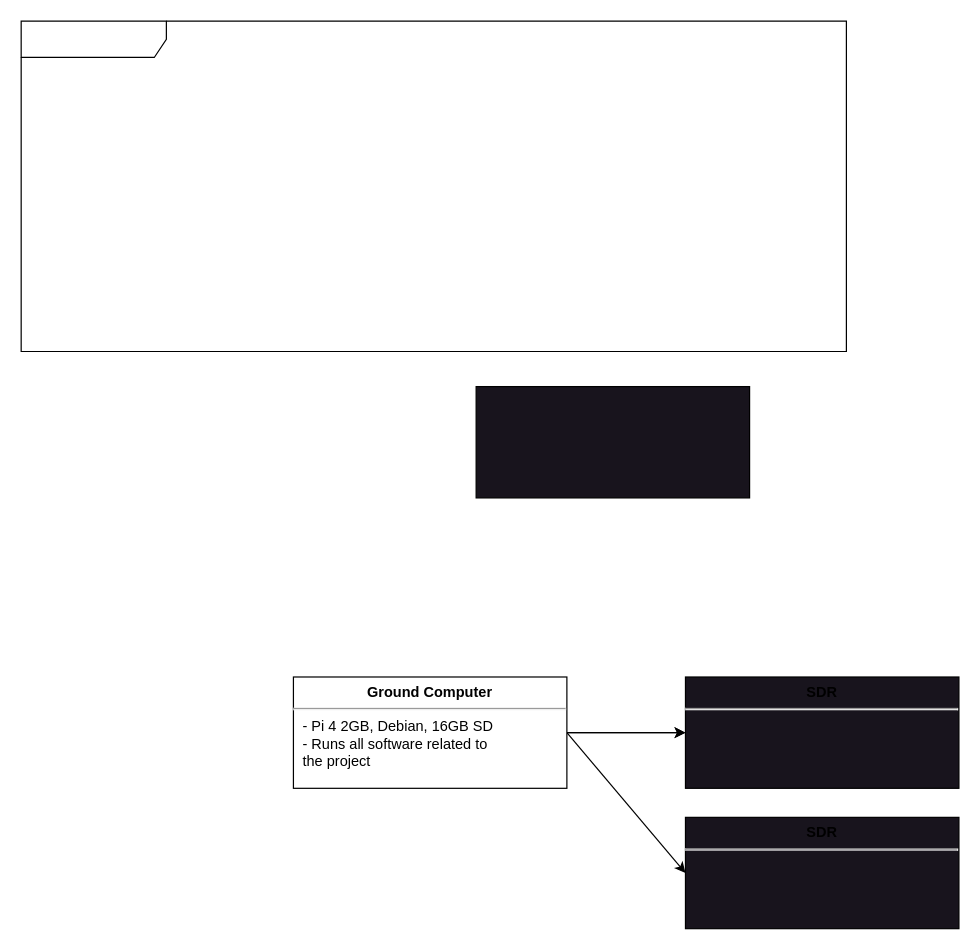
This 980x950 diagram has some shape labels left out. The box of each missing label's shape, as (x1, y1, x2, y2) in pixels:
Ground Station Hardware: (20, 20, 846, 352)
Power Supply: (475, 385, 750, 498)
